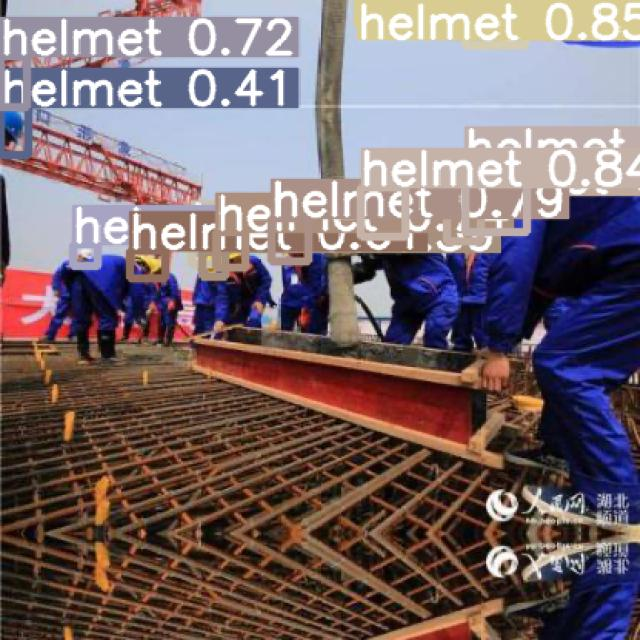helmet: (465, 165, 526, 231), (464, 0, 524, 45), (360, 187, 405, 236), (446, 194, 480, 241), (270, 218, 308, 260), (0, 106, 28, 154), (0, 56, 26, 106), (357, 0, 403, 25), (129, 250, 165, 278), (216, 231, 244, 267), (191, 239, 214, 264), (202, 251, 224, 276), (72, 244, 97, 265), (446, 0, 477, 14)
